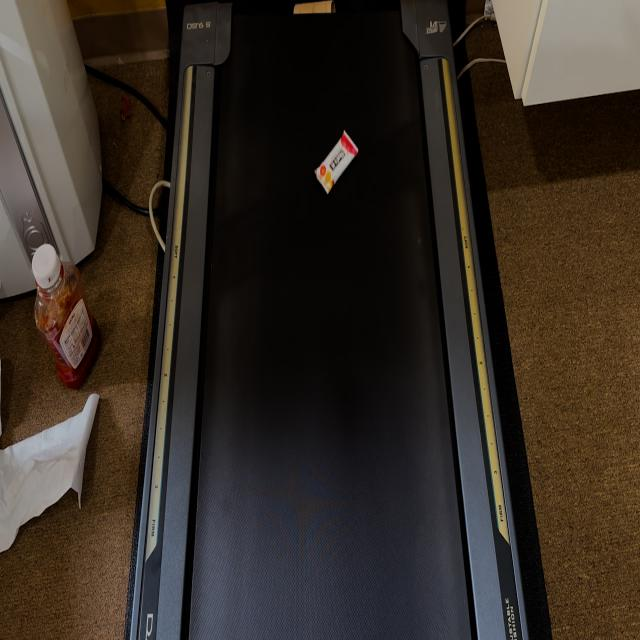Recycle: (312, 132, 358, 197), (292, 2, 336, 16)
